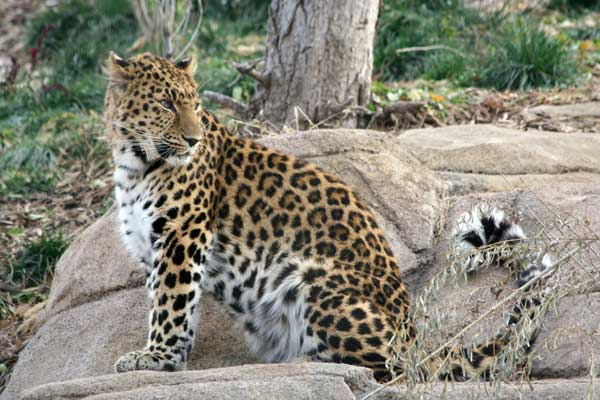amur_leopard: (91, 44, 420, 367)
